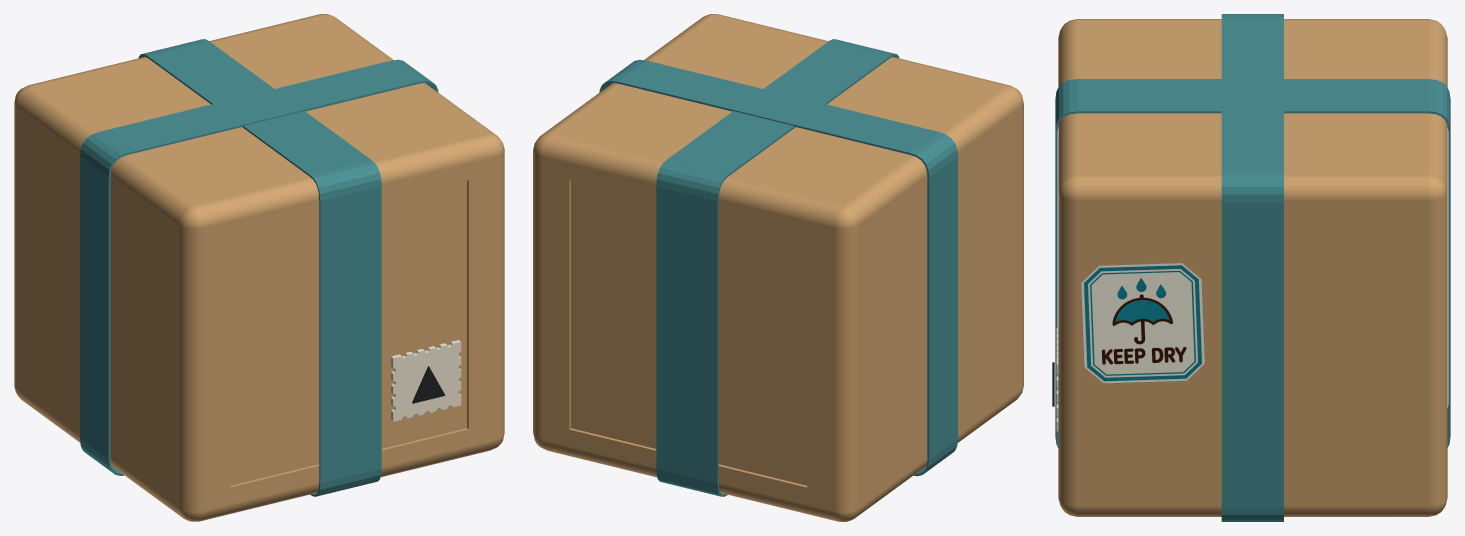
File: play-parcel-small-teal.glb
3 renders of one model, left to right at view 1: azimuth 30°, elevation 25°; view 2: azimuth 150°, elevation 25°; view 3: azimuth 270°, elevation 25°, orthographic. The views are drawn at different scales.
Parts seen in each view (by area): view 1: Parcel_Carton, Parcel_Tape_Continuous_Front_Back, Parcel_Tape_Continuous_Left_Right, Parcel_Paper_Label, Parcel_Label_Triangle; view 2: Parcel_Carton, Parcel_Tape_Continuous_Front_Back, Parcel_Tape_Continuous_Left_Right; view 3: Parcel_Carton, Parcel_Tape_Continuous_Left_Right, Parcel_Care_D3_Artwork, Parcel_Tape_Continuous_Front_Back.
Part boxes in pixels (box(x1,y1,x2,y2)): Parcel_Carton: box(14, 14, 504, 521); Parcel_Tape_Continuous_Front_Back: box(138, 39, 381, 496); Parcel_Tape_Continuous_Left_Right: box(80, 59, 438, 475); Parcel_Paper_Label: box(391, 340, 461, 421); Parcel_Label_Triangle: box(412, 366, 445, 403); Parcel_Carton: box(533, 14, 1023, 521); Parcel_Tape_Continuous_Front_Back: box(656, 39, 899, 496); Parcel_Tape_Continuous_Left_Right: box(599, 59, 957, 476); Parcel_Carton: box(1058, 19, 1447, 516); Parcel_Tape_Continuous_Left_Right: box(1221, 14, 1283, 521); Parcel_Care_D3_Artwork: box(1081, 262, 1204, 383); Parcel_Tape_Continuous_Front_Back: box(1055, 79, 1450, 447).
Size of the model in its own units: 0.148 by 0.138 by 0.1431.
12 materials, 1 textured.
